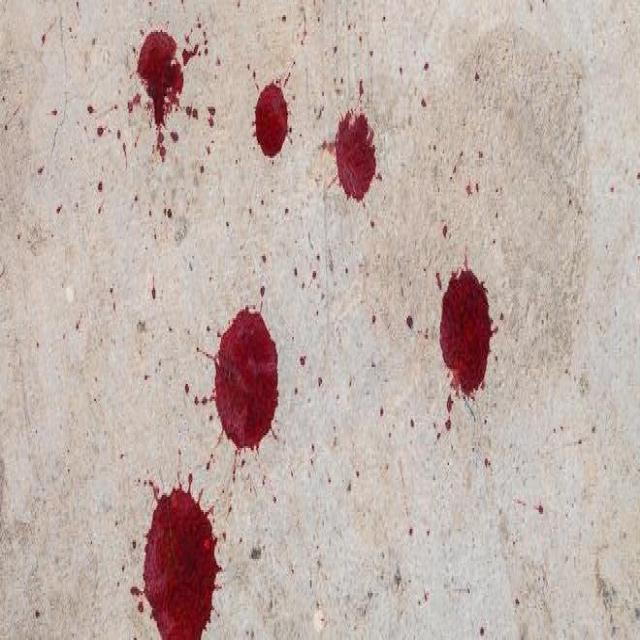Bloodstain-Detection: (155, 508, 207, 634), (446, 278, 486, 392), (229, 322, 266, 436), (339, 125, 374, 193), (259, 86, 286, 149), (150, 48, 172, 103)
